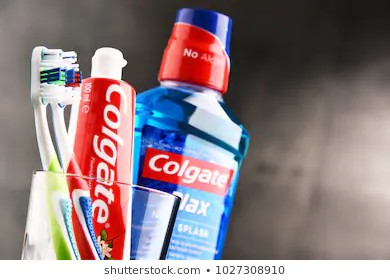colgate-Plax: (133, 10, 251, 259)
toothbrush: (57, 47, 93, 257), (18, 41, 62, 180)
